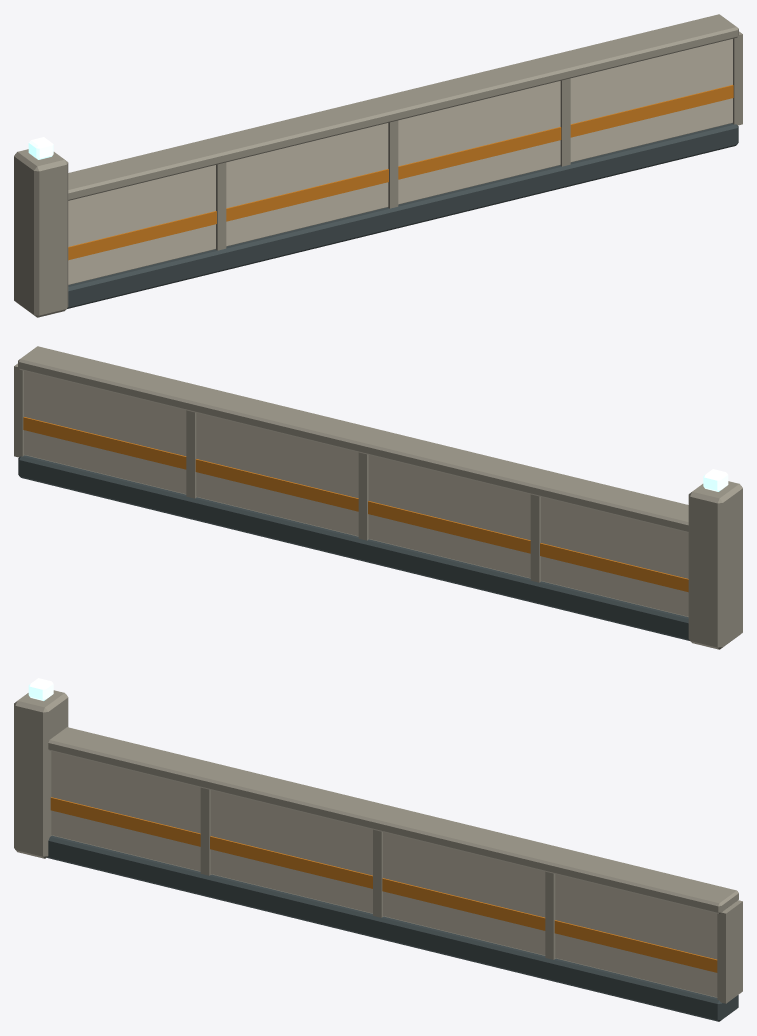
Rendered from fh_wall_4_lamp.glb.
3 views of the same model, one above another, from view 1: azimuth 30°, elevation 25°; view 2: azimuth 150°, elevation 25°; view 3: azimuth 330°, elevation 25° (orthographic).
Parts seen in each view (by area): view 1: fh_wall_4_lamp; view 2: fh_wall_4_lamp; view 3: fh_wall_4_lamp.
Part boxes in pixels (box(x1,y1,x2,y2)): fh_wall_4_lamp: box(14, 14, 742, 317); fh_wall_4_lamp: box(14, 346, 742, 649); fh_wall_4_lamp: box(14, 678, 742, 1021).
Size of the model in its own units: 4.12 by 0.92 by 0.24.
